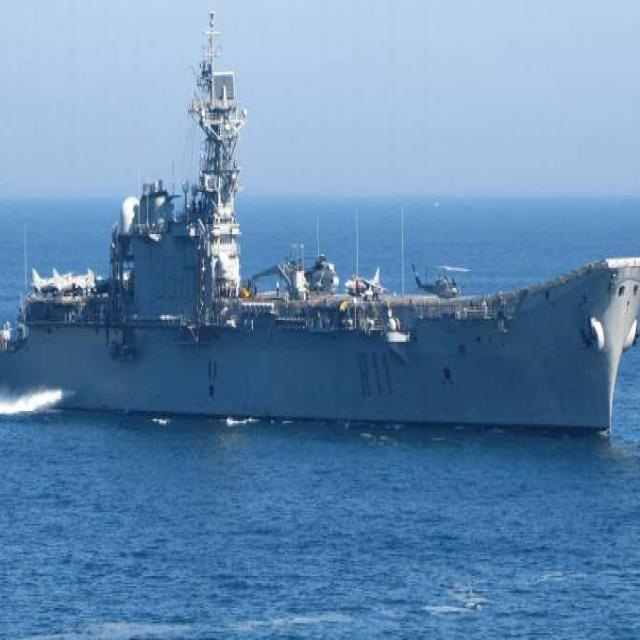Portanaves: (1, 1, 640, 449)
